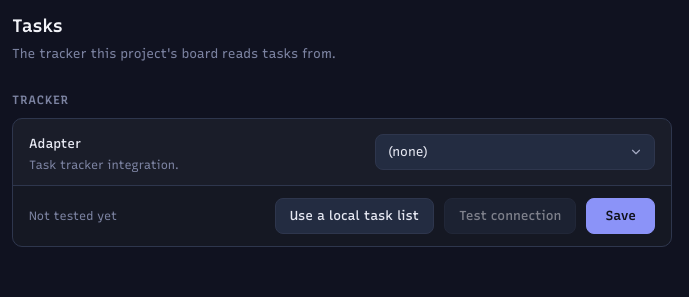
it: KanbanSettings › blocks rapid double activation of save, disables button during mutation, and unlocks on error
The image size is (689, 297).
Select "Second · second" in the dropdown with test id "settings-kanban-adapter-select" at coordinates (515, 152), box [375,134,655,170]
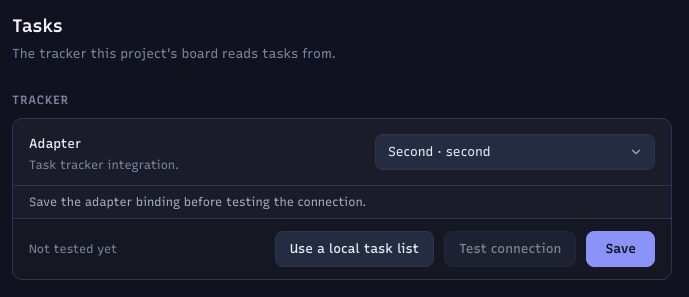
Click the button with test id "settings-kanban-save".
click(621, 248)  # box [586,230,655,266]
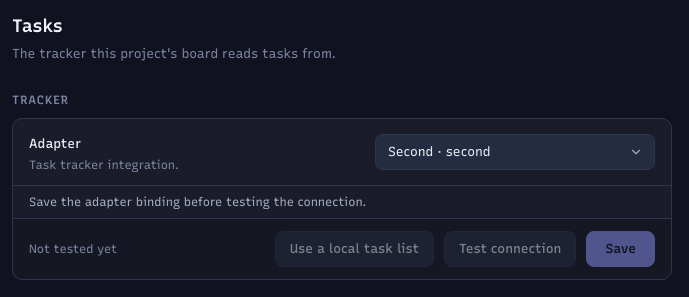
expect the button with test id "settings-kanban-save" is disabled: met
Click the button with test id "settings-kanban-save".
click(621, 248)  # box [586,230,655,266]
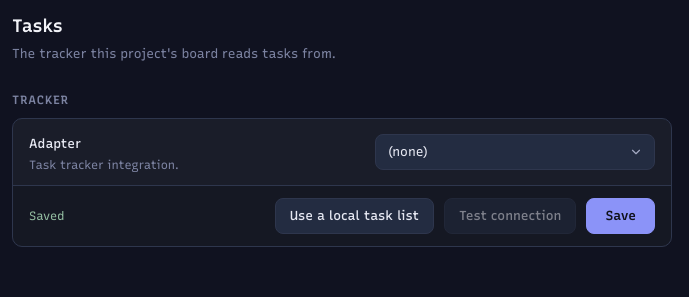
expect the text "Saved" is shown: met, box [29,208,64,222]
expect the button with test id "settings-kanban-save" is enabled: met
Click the button with test id "settings-kanban-save".
click(621, 216)  # box [586,198,655,234]
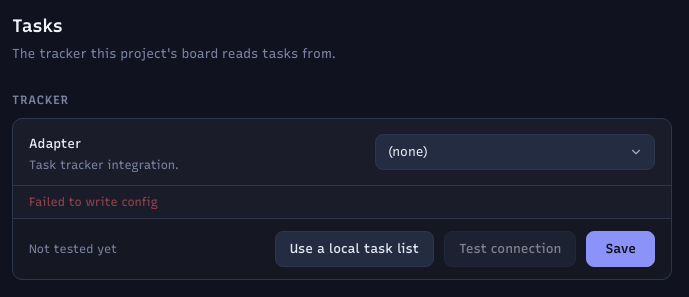
expect the button with test id "settings-kanban-save" is enabled: met, box [586,230,655,266]
expect the text "Failed to write config" is shown: met, box [13,184,671,218]
